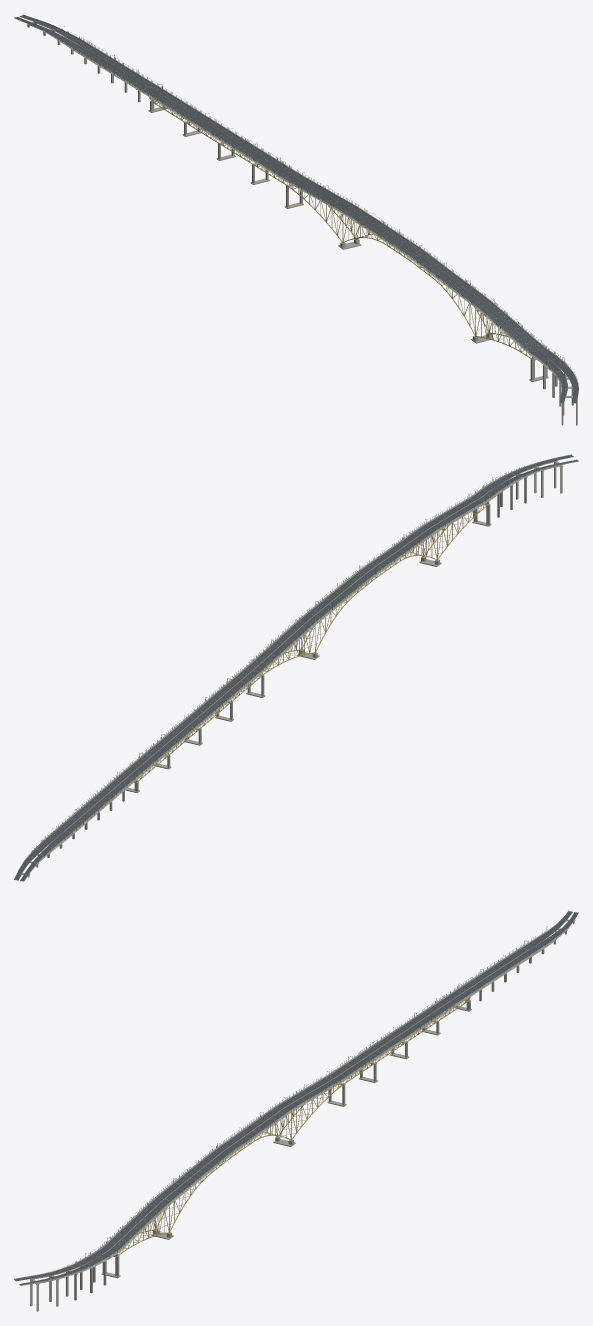
Rendered from ironworkers-memorial-bridge-near.glb.
3 renders of one model, top to bottom at view 1: azimuth 30°, elevation 25°; view 2: azimuth 150°, elevation 25°; view 3: azimuth 330°, elevation 25°, orthographic. The views are drawn at different scales.
Parts seen in each view (by area): view 1: ironworkers-memorial-bridge-0-asphalt, ironworkers-memorial-bridge-2-asphalt, ironworkers-memorial-bridge-1-asphalt, ironworkers-memorial-bridge-0-concrete, ironworkers-memorial-bridge-2-concrete, ironworkers-memorial-bridge-0-barrier, ironworkers-memorial-bridge-1-steel, ironworkers-memorial-bridge-1-concrete, ironworkers-memorial-bridge-2-steel, ironworkers-memorial-bridge-1-barrier, ironworkers-memorial-bridge-2-barrier, ironworkers-memorial-bridge-0-rail; view 2: ironworkers-memorial-bridge-0-asphalt, ironworkers-memorial-bridge-1-asphalt, ironworkers-memorial-bridge-2-asphalt, ironworkers-memorial-bridge-0-concrete, ironworkers-memorial-bridge-2-concrete, ironworkers-memorial-bridge-0-barrier, ironworkers-memorial-bridge-1-concrete, ironworkers-memorial-bridge-1-steel, ironworkers-memorial-bridge-2-steel, ironworkers-memorial-bridge-2-barrier, ironworkers-memorial-bridge-1-barrier, ironworkers-memorial-bridge-0-rail; view 3: ironworkers-memorial-bridge-0-asphalt, ironworkers-memorial-bridge-2-asphalt, ironworkers-memorial-bridge-1-asphalt, ironworkers-memorial-bridge-2-concrete, ironworkers-memorial-bridge-0-concrete, ironworkers-memorial-bridge-0-barrier, ironworkers-memorial-bridge-1-steel, ironworkers-memorial-bridge-1-concrete, ironworkers-memorial-bridge-2-steel, ironworkers-memorial-bridge-2-barrier, ironworkers-memorial-bridge-1-barrier, ironworkers-memorial-bridge-0-rail.
Part boxes in pixels (x1=…): ironworkers-memorial-bridge-0-asphalt: x1=15, y1=15, x2=301, y2=179; ironworkers-memorial-bridge-2-asphalt: x1=430, y1=267, x2=578, y2=403; ironworkers-memorial-bridge-1-asphalt: x1=288, y1=176, x2=443, y2=270; ironworkers-memorial-bridge-0-concrete: x1=14, y1=16, x2=302, y2=184; ironworkers-memorial-bridge-2-concrete: x1=427, y1=266, x2=578, y2=425; ironworkers-memorial-bridge-0-barrier: x1=14, y1=14, x2=301, y2=179; ironworkers-memorial-bridge-1-steel: x1=286, y1=183, x2=430, y2=274; ironworkers-memorial-bridge-1-concrete: x1=284, y1=176, x2=444, y2=271; ironworkers-memorial-bridge-2-steel: x1=429, y1=273, x2=532, y2=359; ironworkers-memorial-bridge-1-barrier: x1=286, y1=175, x2=443, y2=269; ironworkers-memorial-bridge-2-barrier: x1=429, y1=266, x2=578, y2=401; ironworkers-memorial-bridge-0-rail: x1=38, y1=26, x2=302, y2=176; ironworkers-memorial-bridge-0-asphalt: x1=14, y1=666, x2=261, y2=881; ironworkers-memorial-bridge-1-asphalt: x1=249, y1=556, x2=394, y2=669; ironworkers-memorial-bridge-2-asphalt: x1=381, y1=455, x2=577, y2=559; ironworkers-memorial-bridge-0-concrete: x1=15, y1=666, x2=264, y2=877; ironworkers-memorial-bridge-2-concrete: x1=379, y1=455, x2=578, y2=566; ironworkers-memorial-bridge-0-barrier: x1=14, y1=665, x2=263, y2=881; ironworkers-memorial-bridge-1-concrete: x1=246, y1=556, x2=397, y2=697; ironworkers-memorial-bridge-1-steel: x1=262, y1=564, x2=394, y2=675; ironworkers-memorial-bridge-2-steel: x1=394, y1=502, x2=489, y2=564; ironworkers-memorial-bridge-2-barrier: x1=381, y1=454, x2=578, y2=558; ironworkers-memorial-bridge-1-barrier: x1=248, y1=555, x2=395, y2=668; ironworkers-memorial-bridge-0-rail: x1=25, y1=664, x2=263, y2=865; ironworkers-memorial-bridge-0-asphalt: x1=330, y1=911, x2=577, y2=1078; ironworkers-memorial-bridge-2-asphalt: x1=14, y1=1165, x2=210, y2=1285; ironworkers-memorial-bridge-1-asphalt: x1=197, y1=1075, x2=342, y2=1167; ironworkers-memorial-bridge-2-concrete: x1=21, y1=1164, x2=213, y2=1311; ironworkers-memorial-bridge-0-concrete: x1=328, y1=915, x2=577, y2=1082; ironworkers-memorial-bridge-0-barrier: x1=329, y1=910, x2=578, y2=1078; ironworkers-memorial-bridge-1-steel: x1=211, y1=1081, x2=344, y2=1172; ironworkers-memorial-bridge-1-concrete: x1=196, y1=1074, x2=346, y2=1168; ironworkers-memorial-bridge-2-steel: x1=117, y1=1171, x2=211, y2=1256; ironworkers-memorial-bridge-2-barrier: x1=14, y1=1164, x2=211, y2=1285; ironworkers-memorial-bridge-1-barrier: x1=197, y1=1074, x2=344, y2=1167; ironworkers-memorial-bridge-0-rail: x1=329, y1=925, x2=568, y2=1078.
Size of the model in its own units: 73.73 by 63.96 by 1462.
